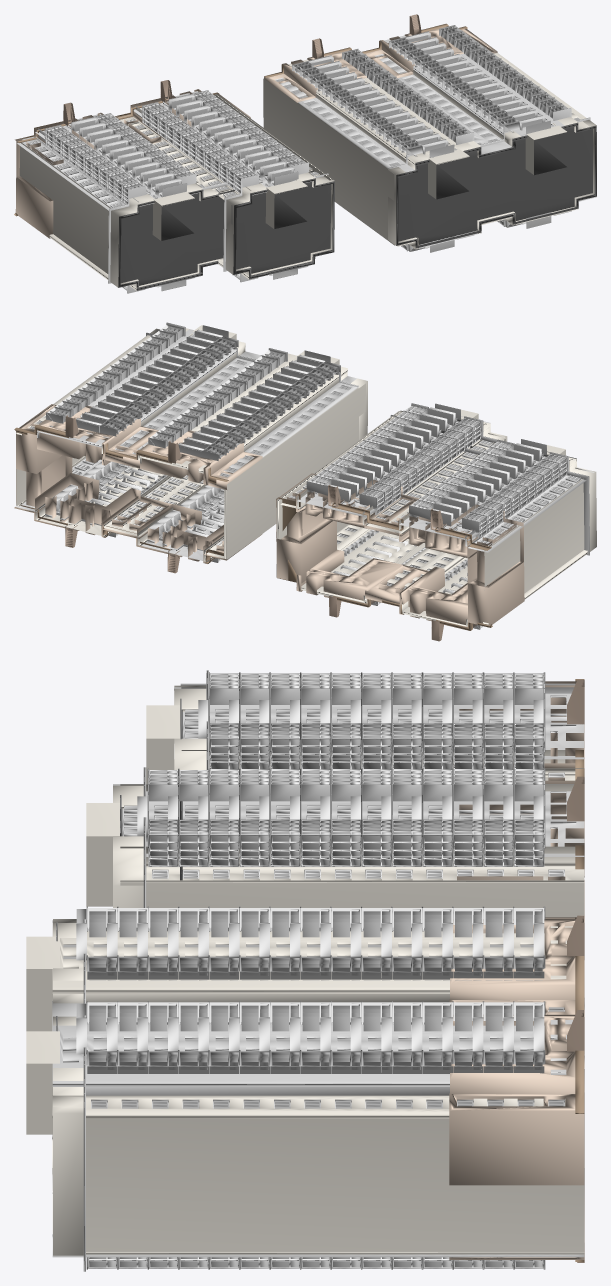
Rendered from borneo-model.glb.
3 views of the same model, one above another, from view 1: azimuth 30°, elevation 25°; view 2: azimuth 150°, elevation 25°; view 3: azimuth 270°, elevation 25° (orthographic). The views are drawn at different scales.
Parts seen in each view (by area): view 1: Node; view 2: Node; view 3: Node.
Boxes of the visible parts, x1,y1,x2,y2 form: Node: (14, 14, 596, 293); Node: (14, 322, 596, 641); Node: (26, 670, 584, 1271).
Size of the model in its own units: 5171 by 1396 by 2765.
